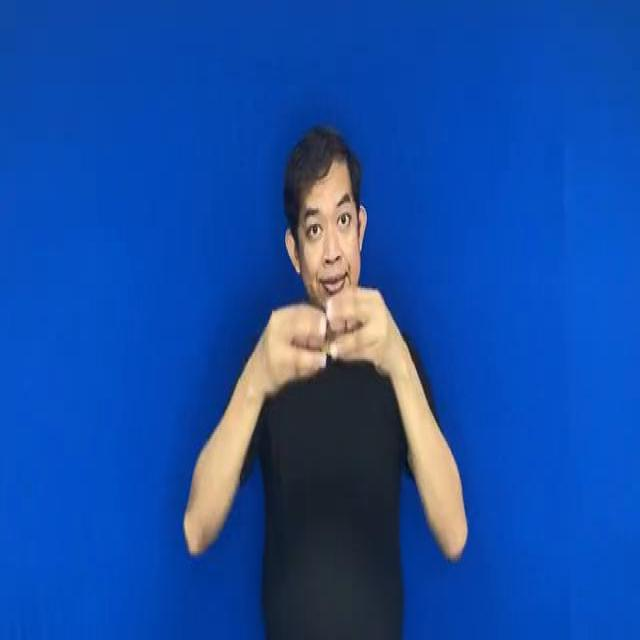egg: (253, 271, 399, 397)
